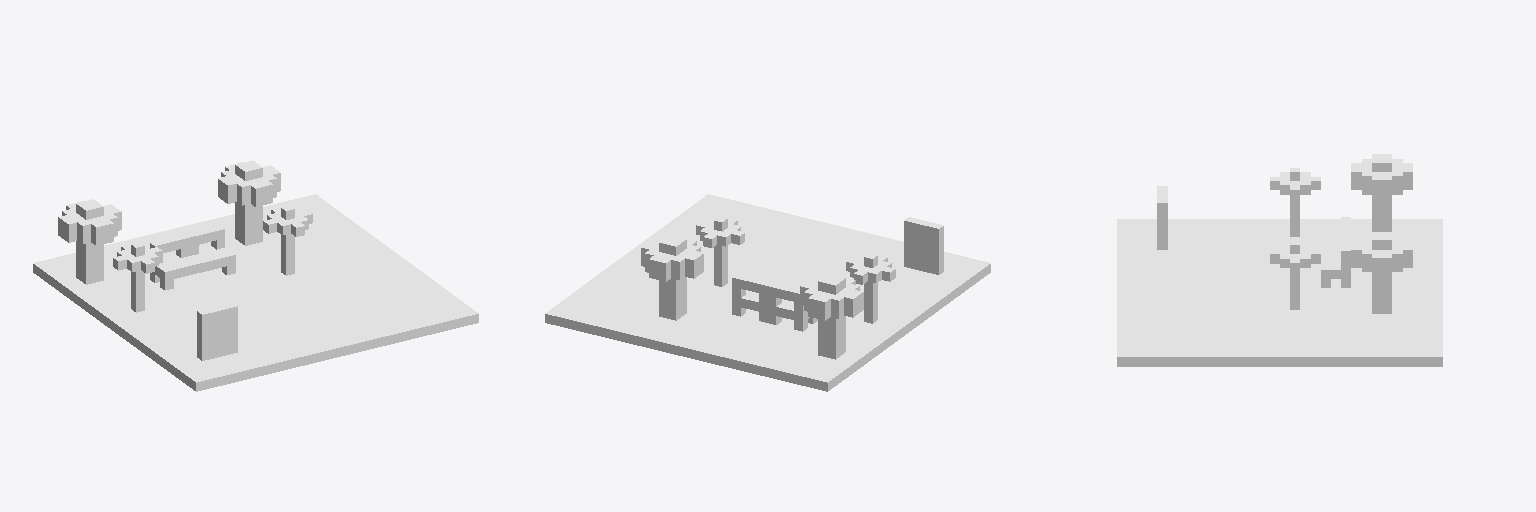
File: park2.1.obj
3 views of the same model, side by side, from view 1: azimuth 30°, elevation 25°; view 2: azimuth 150°, elevation 25°; view 3: azimuth 270°, elevation 25° (orthographic).
Parts seen in each view (by area): view 1: object 1; view 2: object 1; view 3: object 1.
Boxes of the visible parts, <box> form: object 1: <box>33,160,478,391</box>; object 1: <box>545,194,990,391</box>; object 1: <box>1117,154,1442,366</box>.
Bounding box in the file's own units: 3.2 × 0.9 × 3.2.